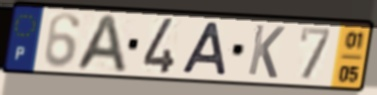4: (140, 16, 178, 76)
6: (42, 11, 83, 71)
7: (296, 26, 333, 83)
A: (72, 12, 129, 75), (180, 20, 230, 77)
K: (245, 22, 287, 81)
